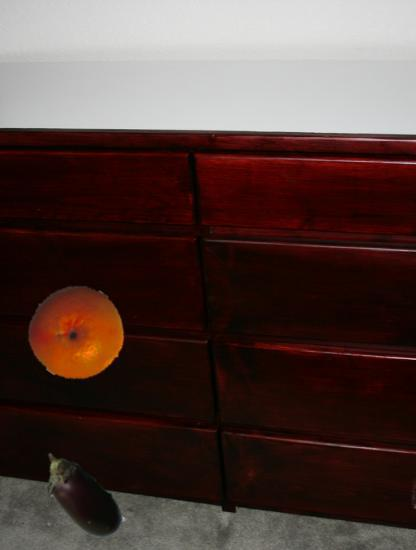Eggplant: (26, 443, 132, 549)
Grapefruit: (29, 285, 125, 381)
